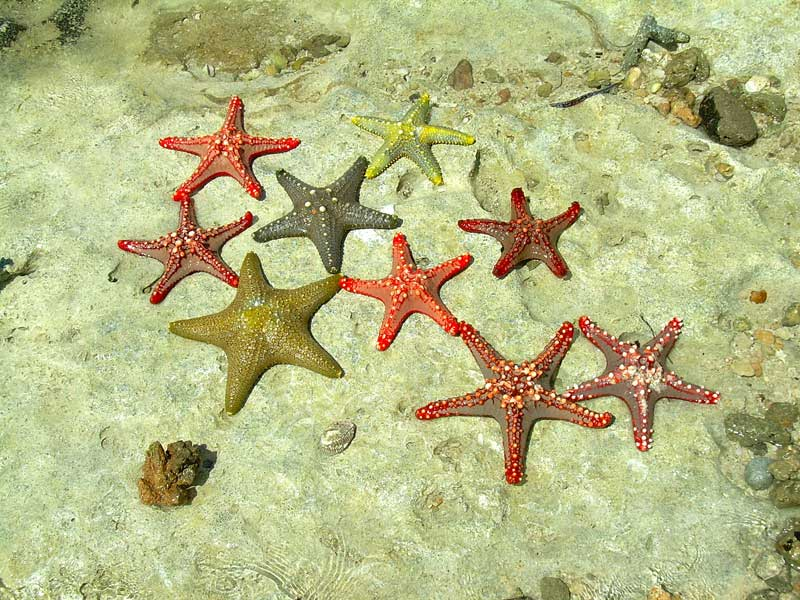starfish: (169, 257, 363, 416), (414, 312, 588, 479), (558, 304, 728, 428), (247, 161, 413, 276), (333, 233, 492, 348), (160, 99, 297, 208), (114, 198, 256, 301), (457, 190, 600, 288), (345, 89, 472, 190)
